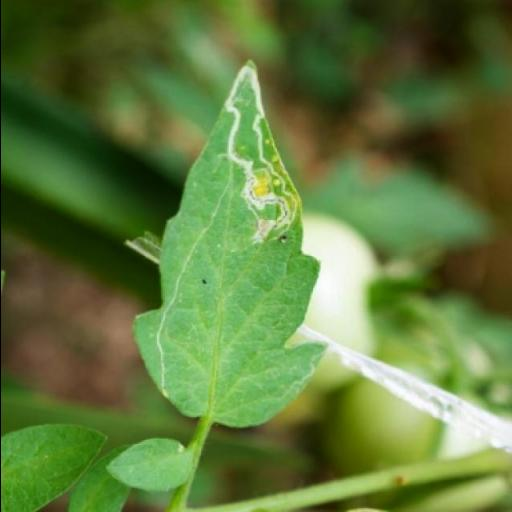disease_tomato: (132, 64, 332, 430)
